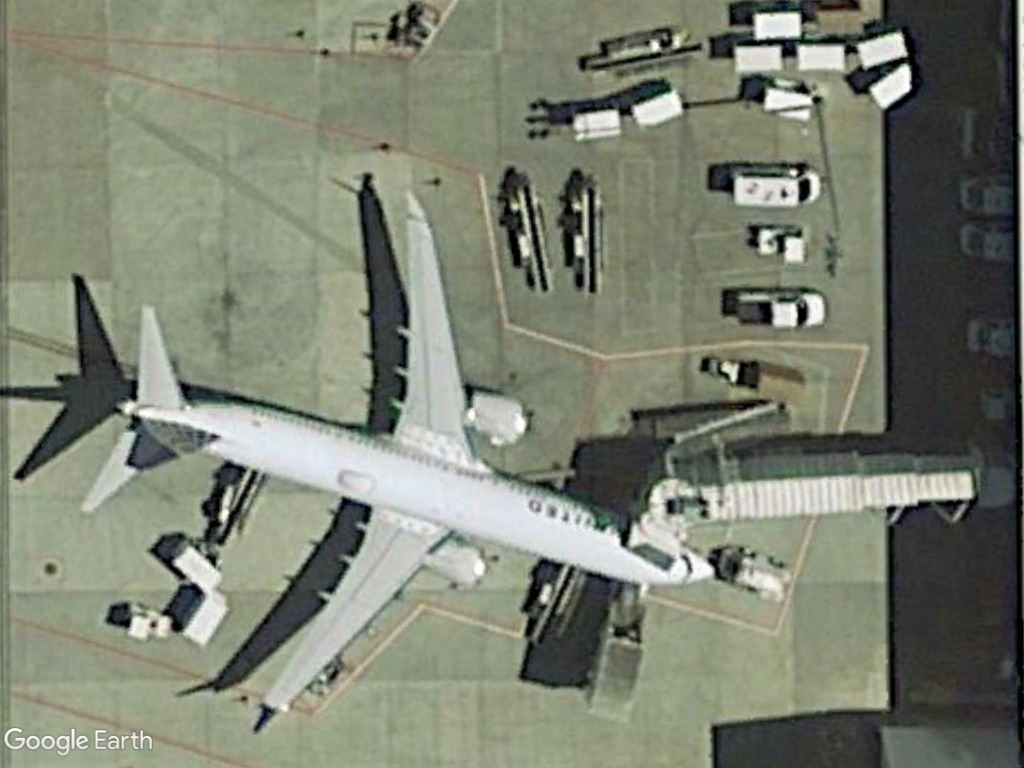airliner: (63, 182, 722, 724)
